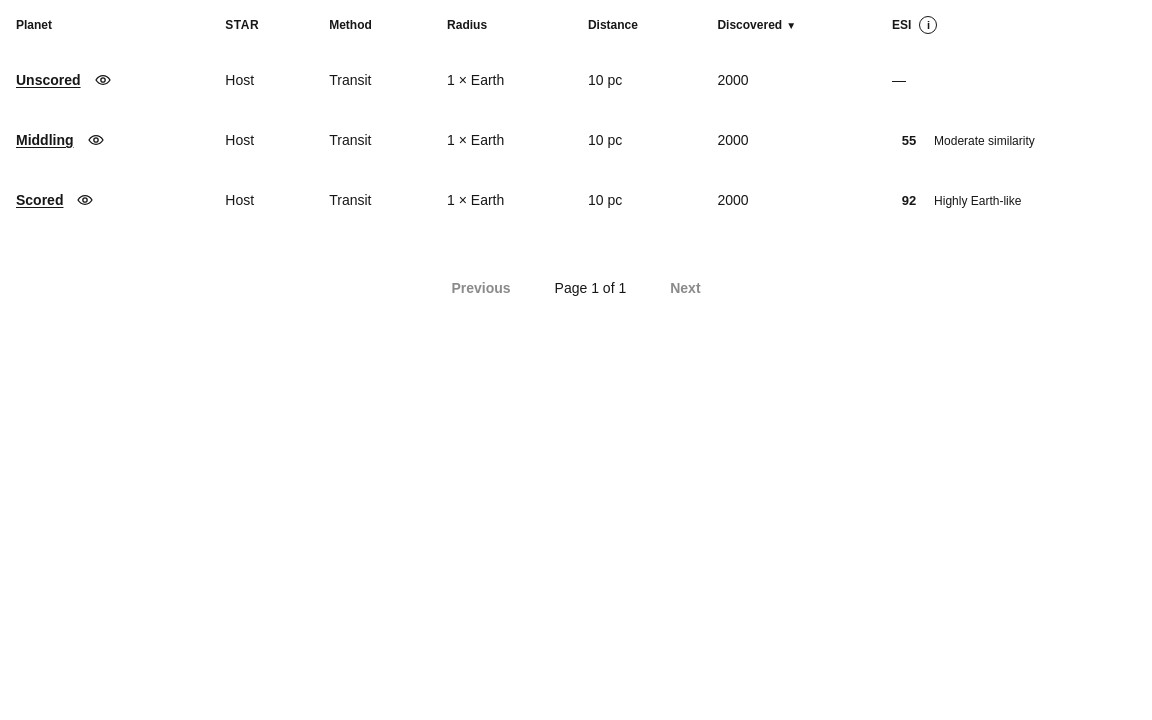
Scenario: PlanetTable ESI column › opens the explainer from the info button without sorting
Click the button named "About the Earth Similarity Index". click: (928, 25)
box: [919,16,937,34]
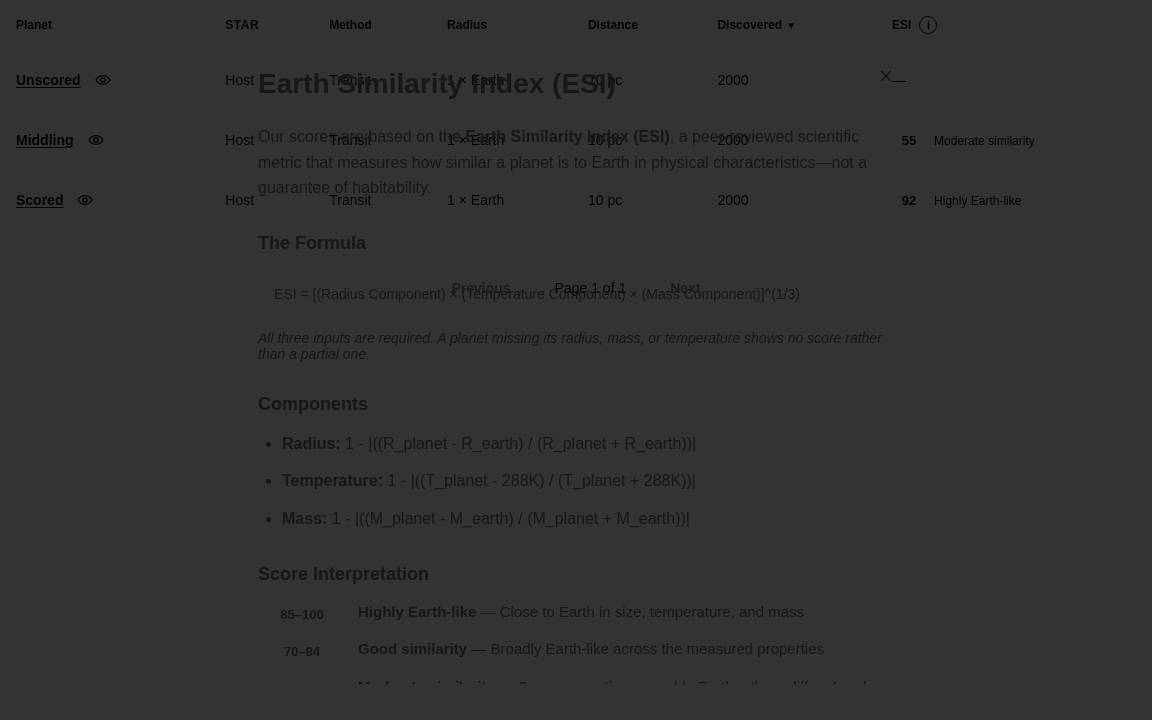
Result: the dialog is shown at [226,36,926,684]
